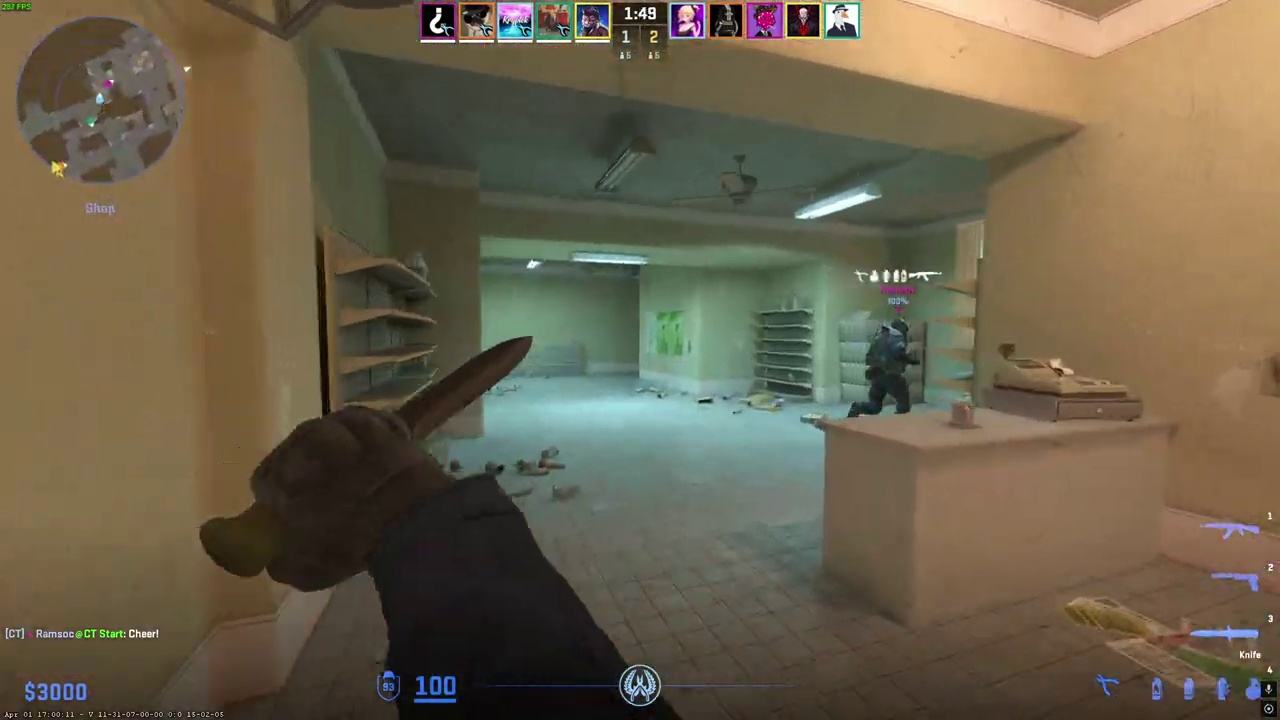CT: (852, 317, 916, 419)
